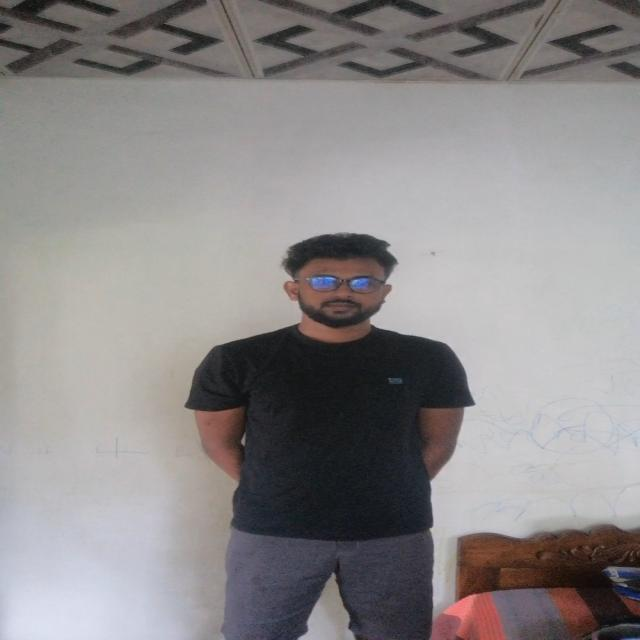Person: (187, 223, 465, 640)
